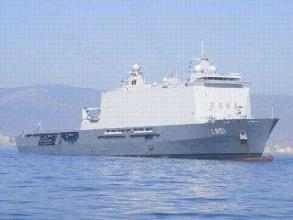warship: (10, 49, 281, 158)
